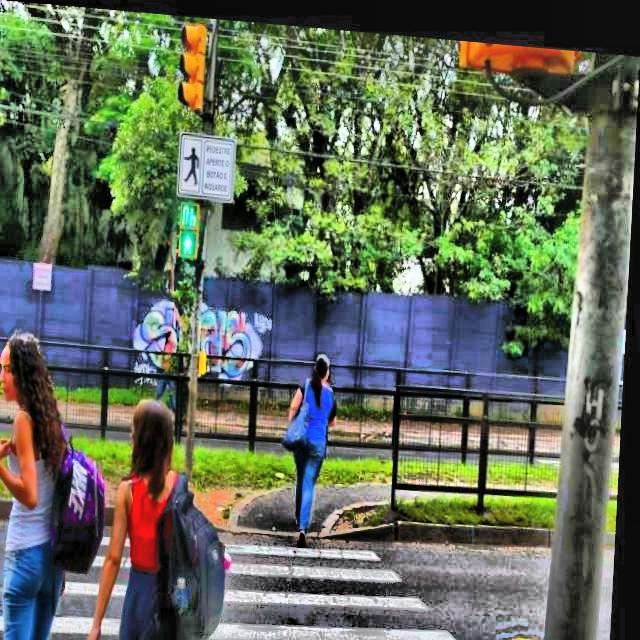faixa de pedestre: (8, 521, 446, 635)
